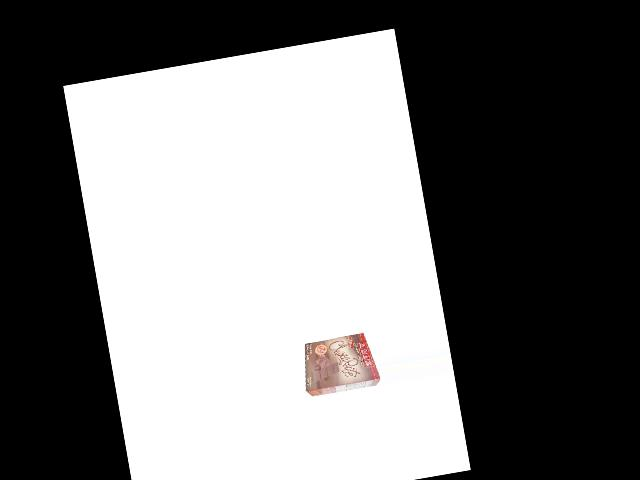chocolate: (297, 330, 379, 397)
